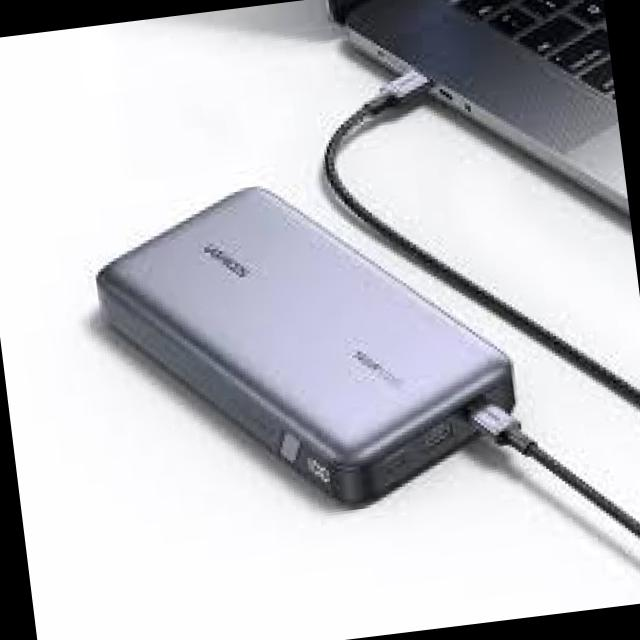power_bank: (78, 151, 534, 536)
